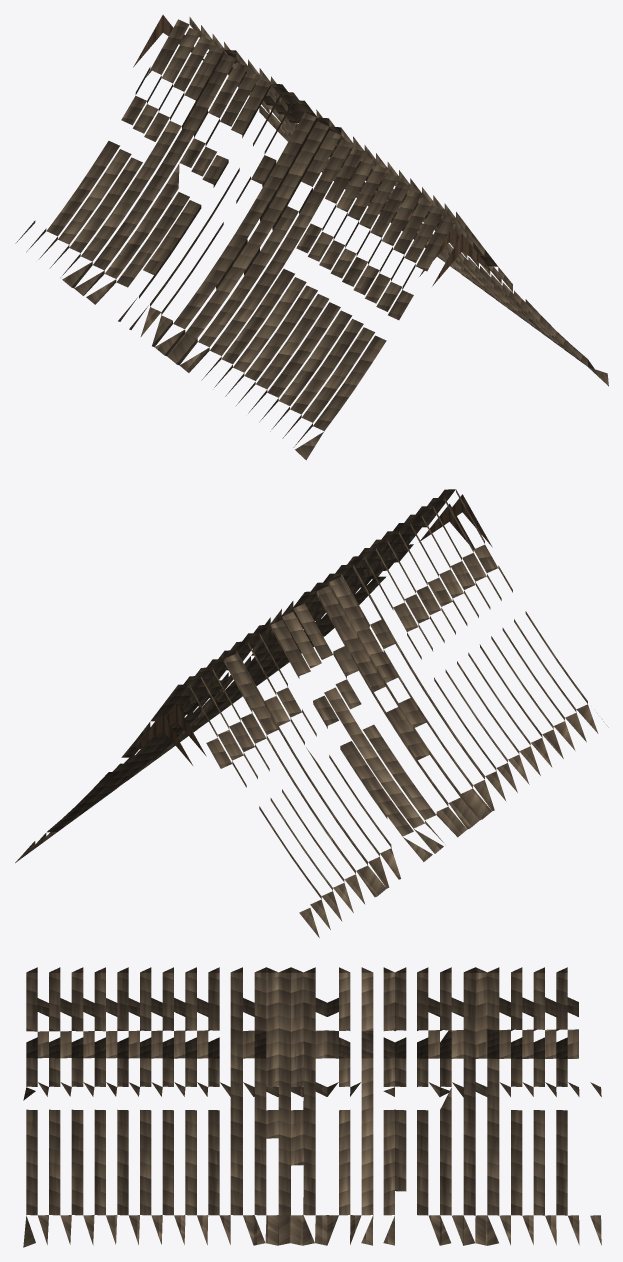
The model's file is Roof_Shingle_6x12_LOD1.gltf.
3 renders of one model, top to bottom at view 1: azimuth 30°, elevation 25°; view 2: azimuth 150°, elevation 25°; view 3: azimuth 270°, elevation 25°, orthographic.
Visible parts, largest first — view 1: Roof_Shingle_6x12_LOD1; view 2: Roof_Shingle_6x12_LOD1; view 3: Roof_Shingle_6x12_LOD1.
Boxes of the visible parts, x1,y1,x2,y2 form: Roof_Shingle_6x12_LOD1: (15,15,608,460); Roof_Shingle_6x12_LOD1: (15,489,608,937); Roof_Shingle_6x12_LOD1: (23,967,601,1247).
Bounding box in the file's own units: 8.25 × 5.17 × 13.66.
Materials: 2 (2 with a texture image).
